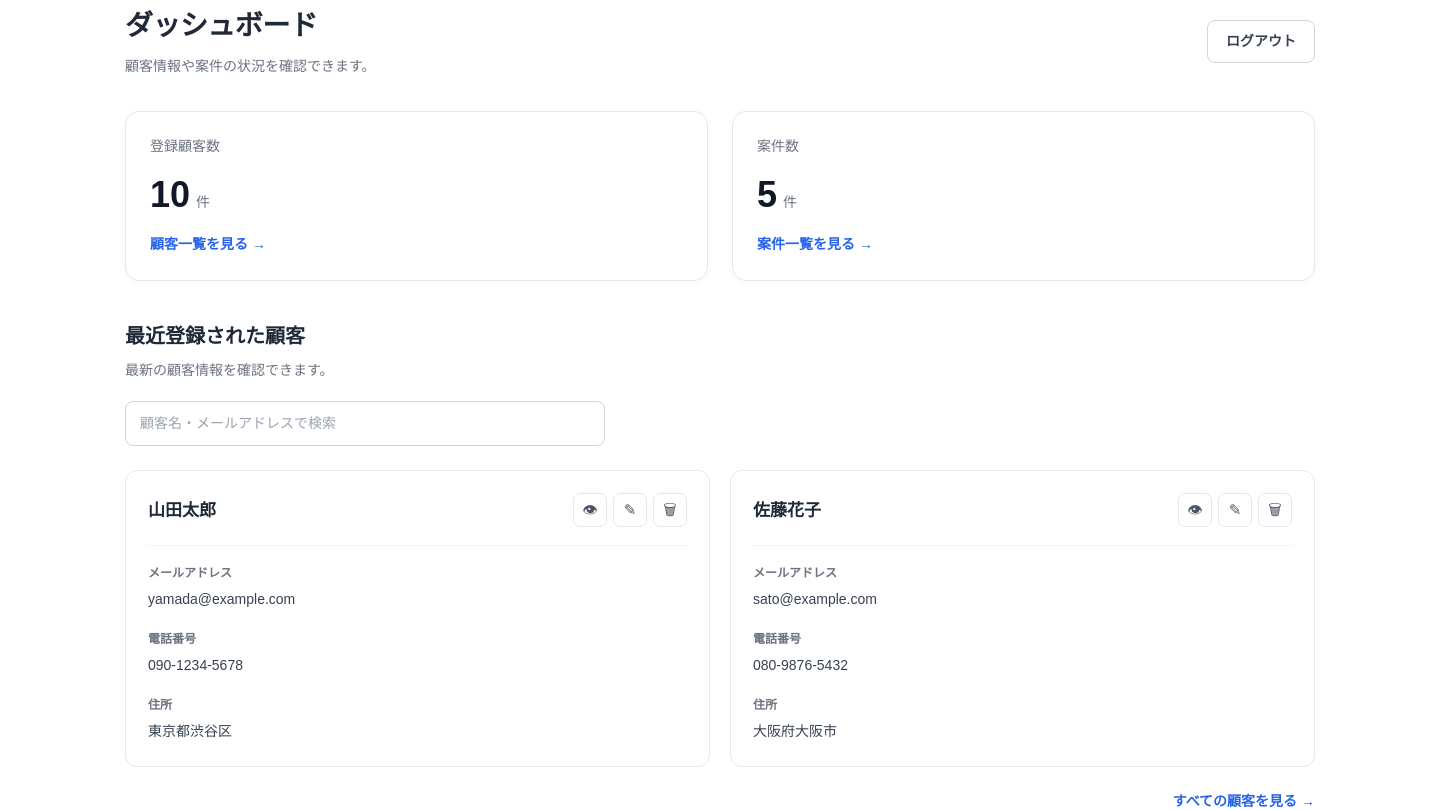
Test: DashboardTemplate › 顧客検索 › メールアドレスで検索できる
Type "SATO@EXAMPLE.COM" into the search field at (365, 424), box [125,401,605,446]
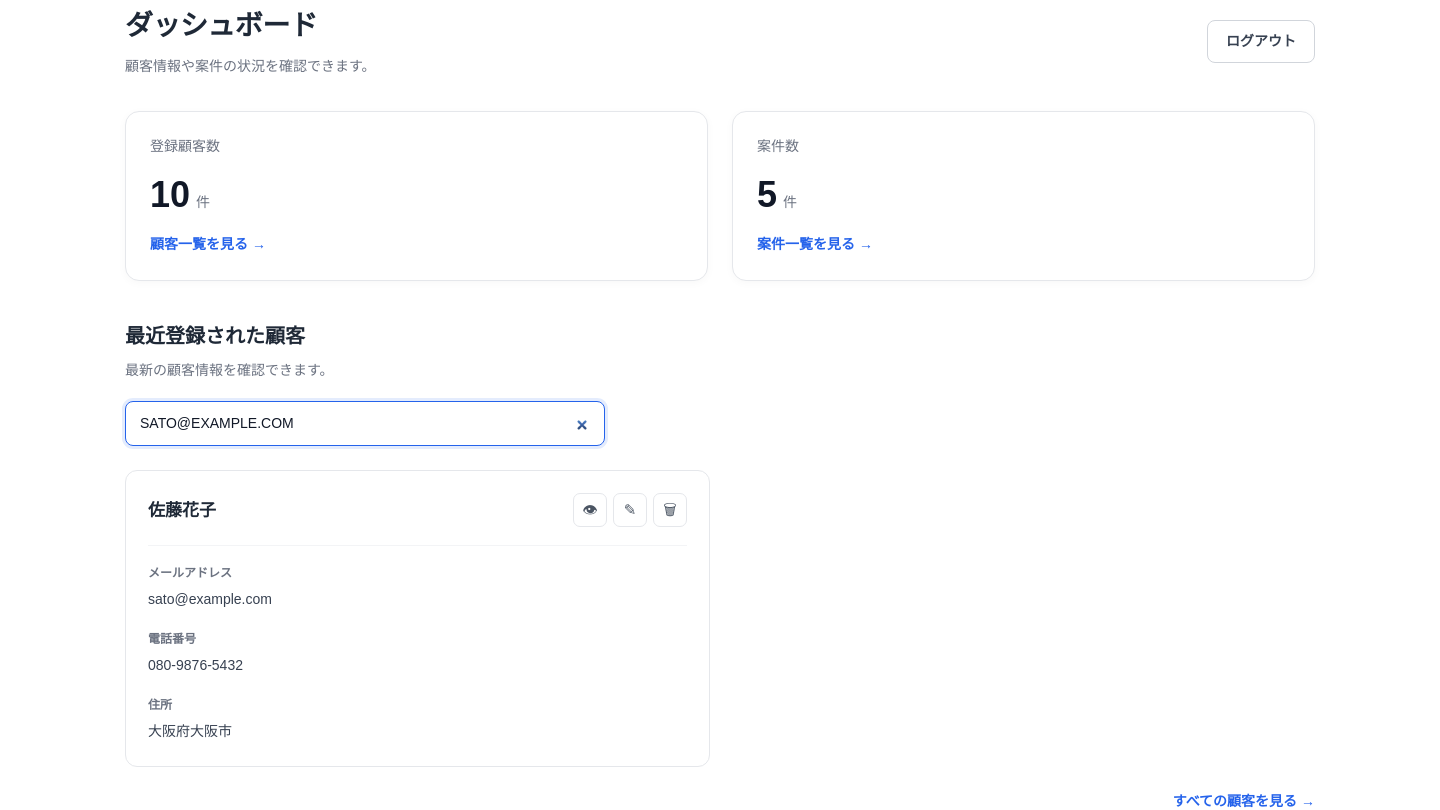
Check: the heading "佐藤花子" is shown, box [148,498,216,523]
Check: the heading "山田太郎" is gone
